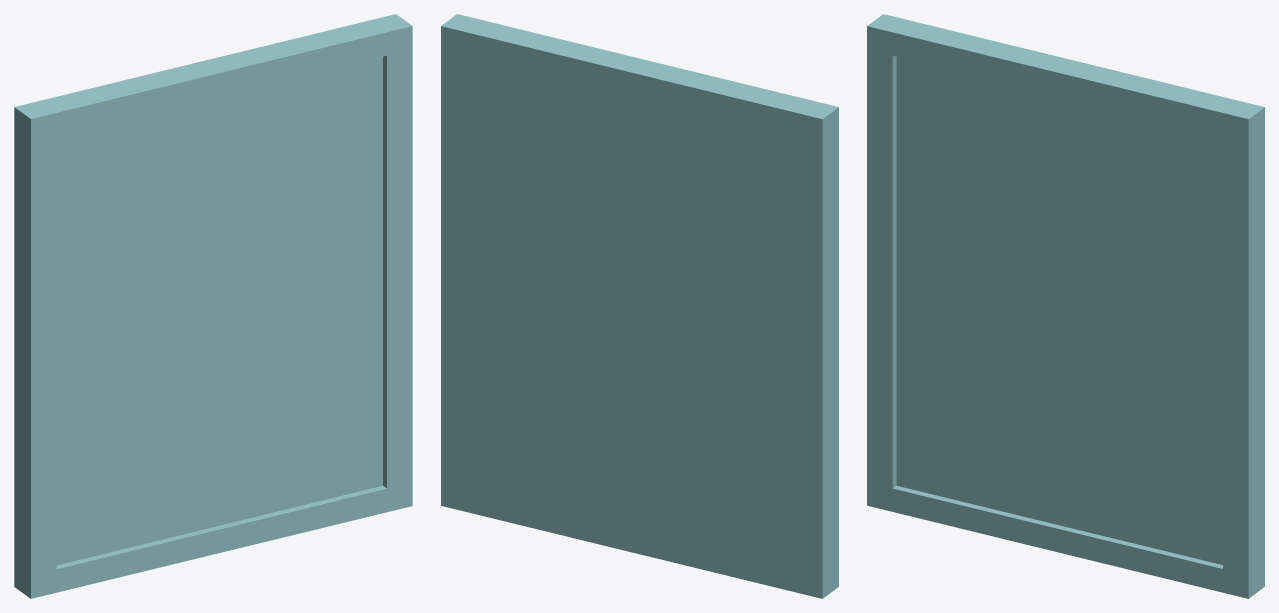
File: Itr_Obj_Frame2_06.FBX
3 views of the same model, side by side, from view 1: azimuth 30°, elevation 25°; view 2: azimuth 150°, elevation 25°; view 3: azimuth 330°, elevation 25° (orthographic).
Visible parts, largest first — view 1: Itr_Obj_Frame2_06; view 2: Itr_Obj_Frame2_06; view 3: Itr_Obj_Frame2_06.
Part boxes in pixels (x1,y1,x2,y2): Itr_Obj_Frame2_06: [14, 14, 412, 598]; Itr_Obj_Frame2_06: [441, 14, 838, 598]; Itr_Obj_Frame2_06: [867, 14, 1264, 598].
Bounding box in the file's own units: 31.11 × 37.37 × 2.33.
